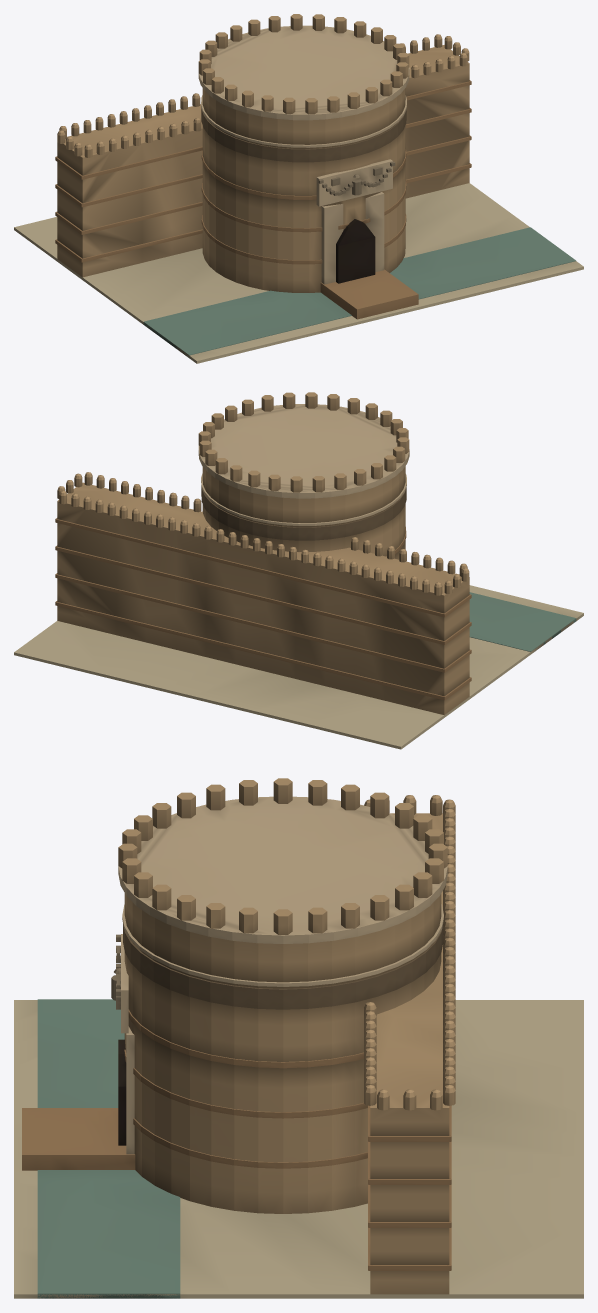
Rendered from talisman-gate.glb.
The picture shows the model from 3 angles, top to bottom: view 1: azimuth 30°, elevation 25°; view 2: azimuth 150°, elevation 25°; view 3: azimuth 270°, elevation 25°; orthographic projection. The views are drawn at different scales.
Visible parts, largest first — view 1: p2_tower, p0_ground, p1_wall, p3_relief; view 2: p1_wall, p2_tower, p0_ground; view 3: p2_tower, p0_ground, p1_wall, p3_relief.
Part boxes in pixels (bbox=[...]): p2_tower: bbox=[198, 14, 409, 292]; p0_ground: bbox=[14, 183, 583, 363]; p1_wall: bbox=[55, 34, 471, 277]; p3_relief: bbox=[316, 159, 395, 206]; p1_wall: bbox=[55, 472, 471, 714]; p2_tower: bbox=[198, 392, 409, 559]; p0_ground: bbox=[14, 585, 583, 749]; p2_tower: bbox=[118, 778, 447, 1213]; p0_ground: bbox=[14, 999, 583, 1298]; p1_wall: bbox=[364, 795, 455, 1294]; p3_relief: bbox=[111, 934, 128, 1033].
Size of the model in its own units: 44.8 by 21.2 by 36.
